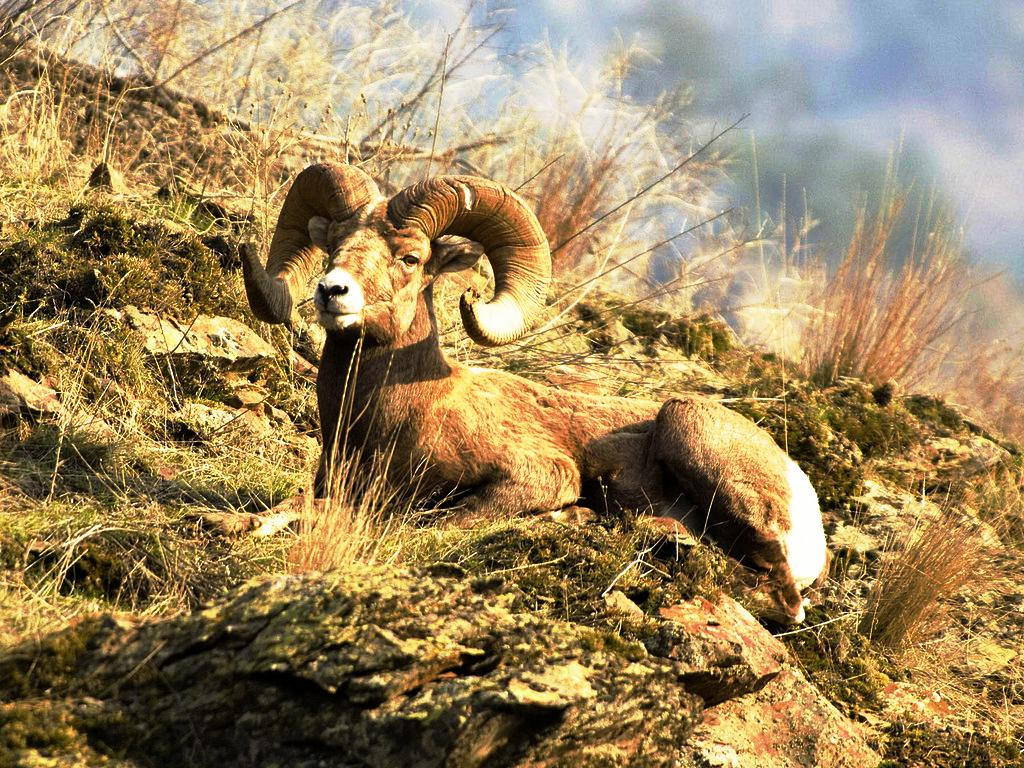Sheep: (188, 162, 834, 626)
